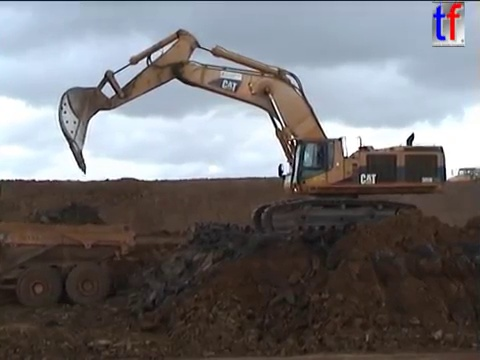excavator: (54, 24, 449, 244)
truck: (1, 218, 138, 309), (445, 165, 480, 192)
